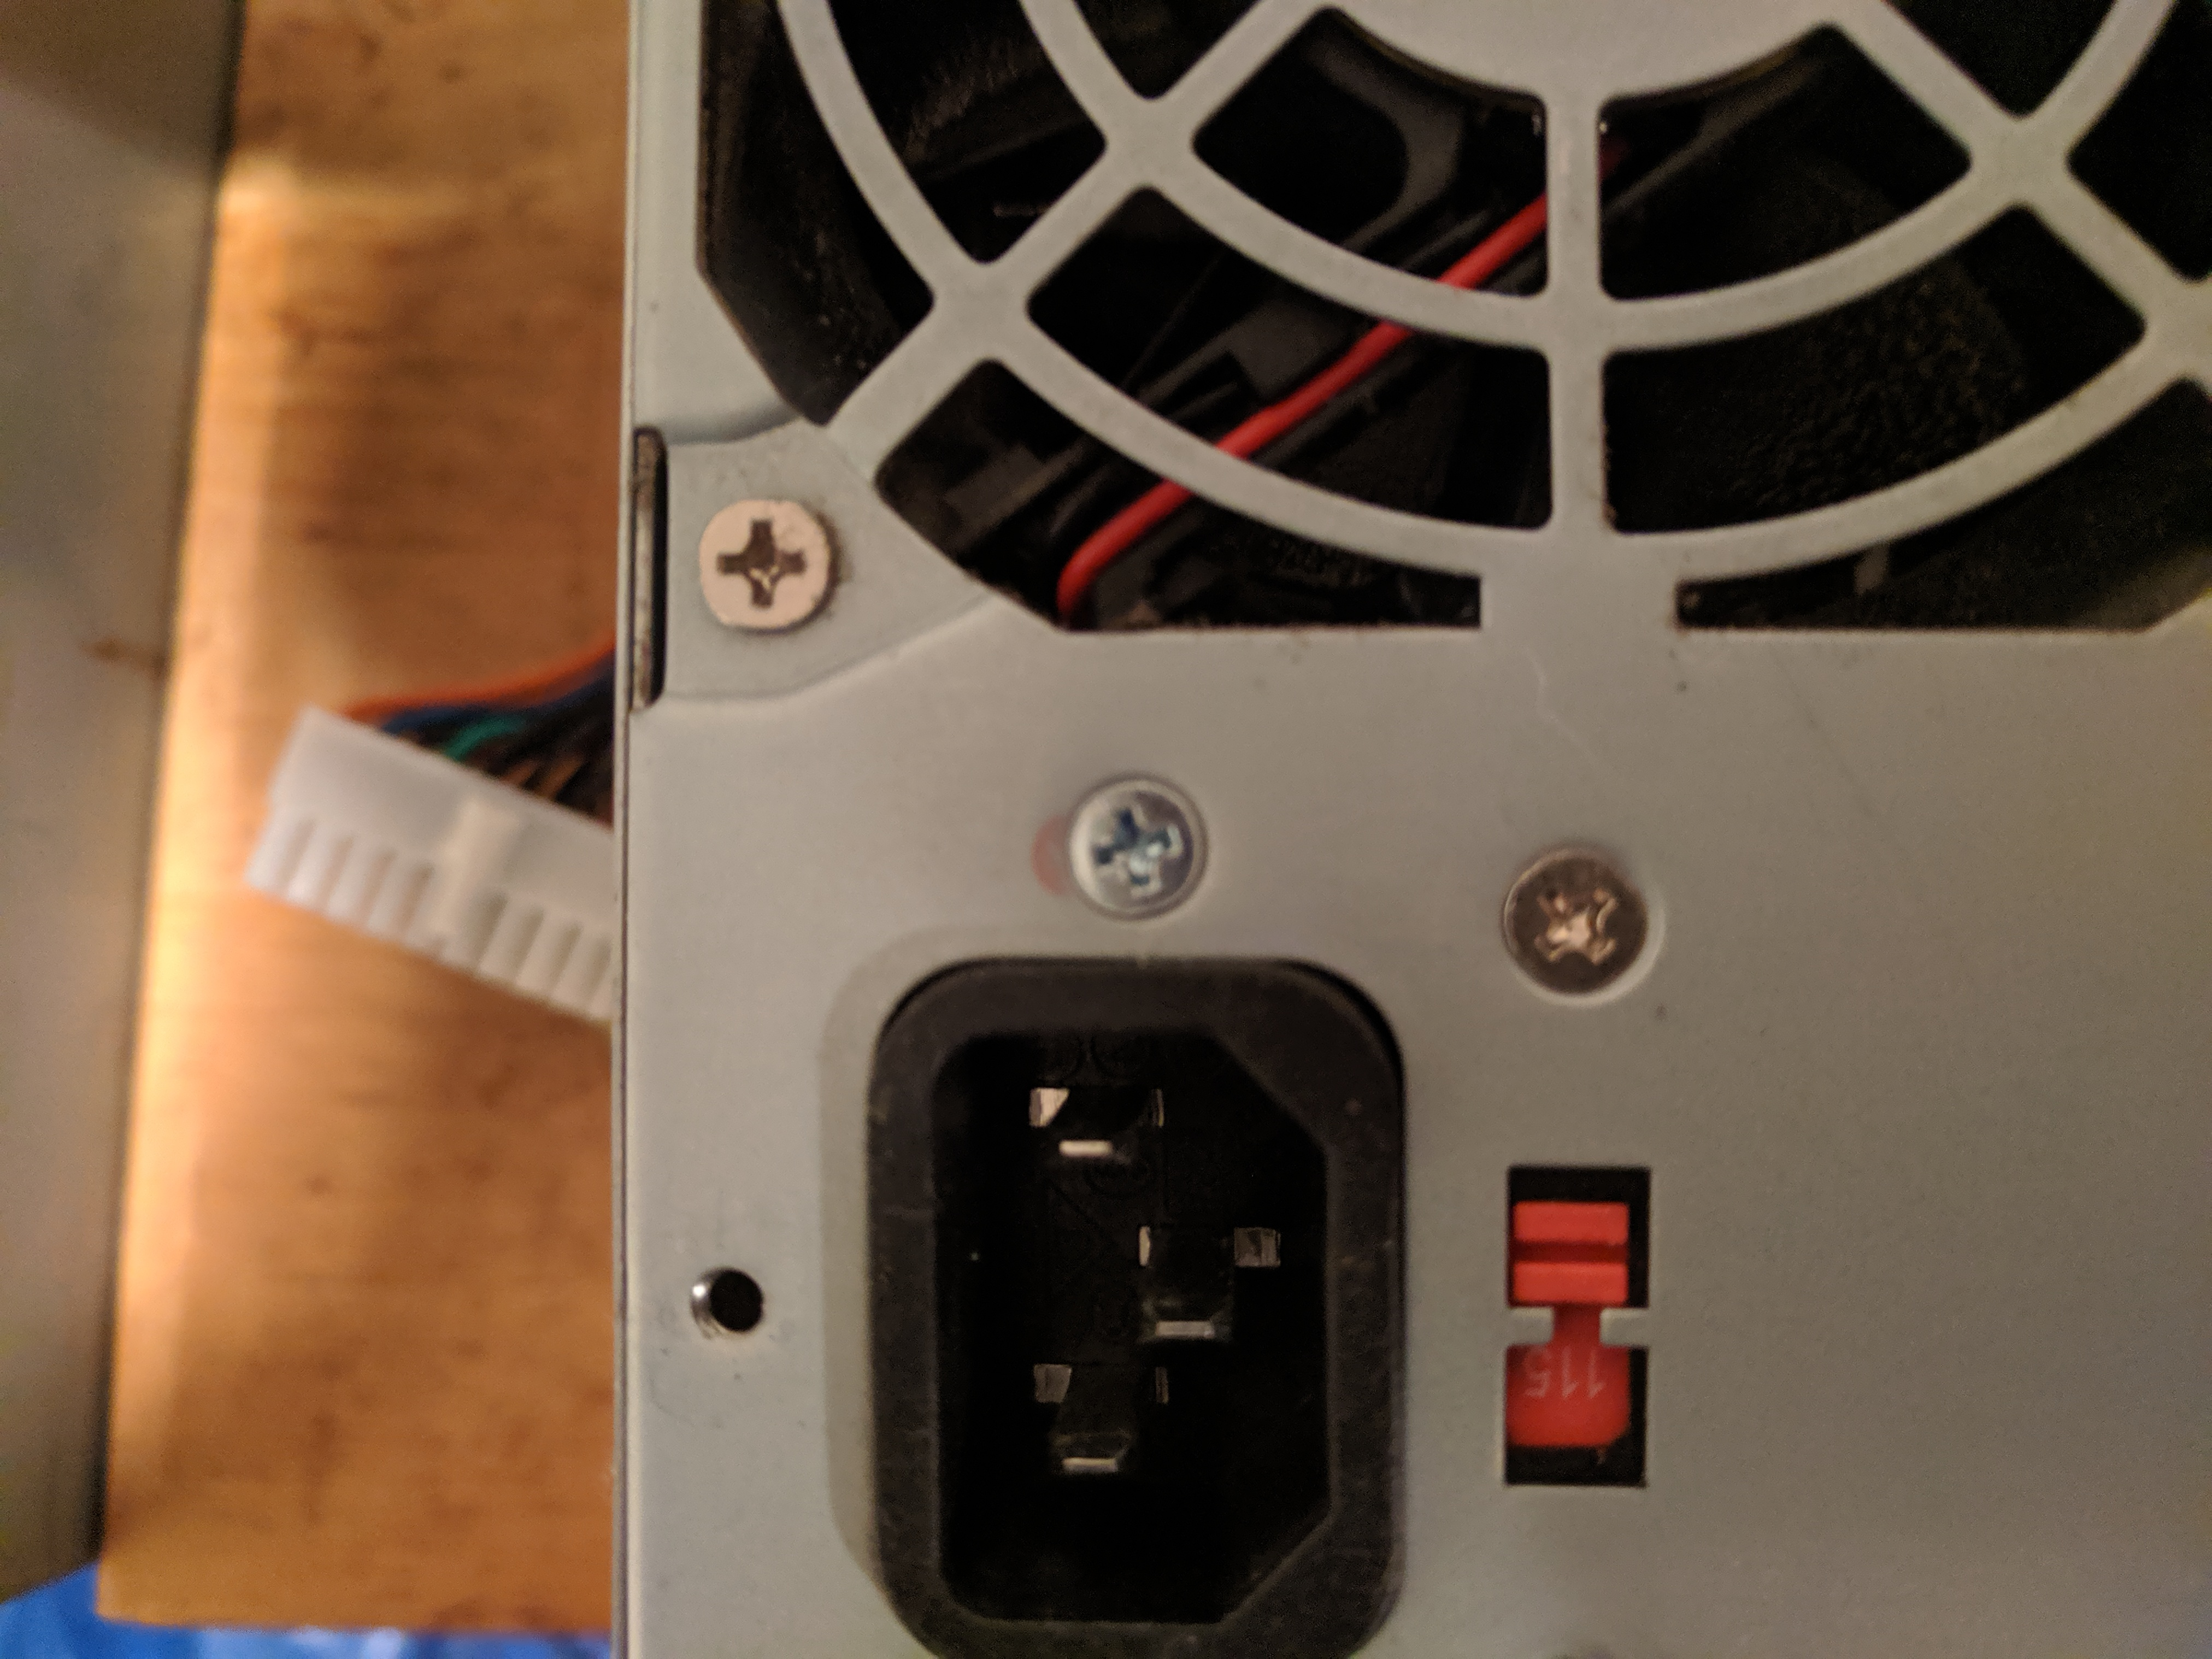cross_recessed_screw: (1475, 828, 1663, 1007), (674, 479, 860, 650), (1052, 760, 1214, 927)
